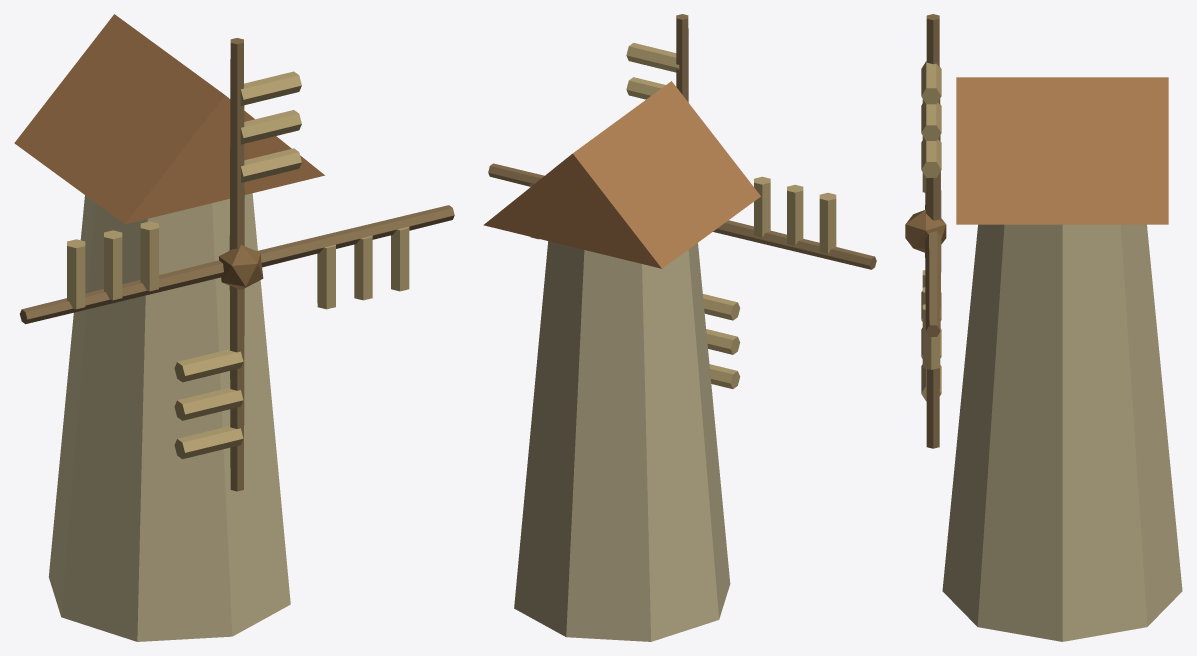
Rendered from map-exclusive-v3__farm_01.glb.
3 renders of one model, left to right at view 1: azimuth 30°, elevation 25°; view 2: azimuth 150°, elevation 25°; view 3: azimuth 270°, elevation 25°, orthographic. The views are drawn at different scales.
Parts seen in each view (by area): view 1: farm_01; view 2: farm_01; view 3: farm_01.
Boxes of the visible parts, bbox=[...] form: farm_01: bbox=[14, 14, 454, 641]; farm_01: bbox=[483, 14, 876, 641]; farm_01: bbox=[905, 14, 1182, 641].
Size of the model in its own units: 2.56 by 3.43 by 1.5.
